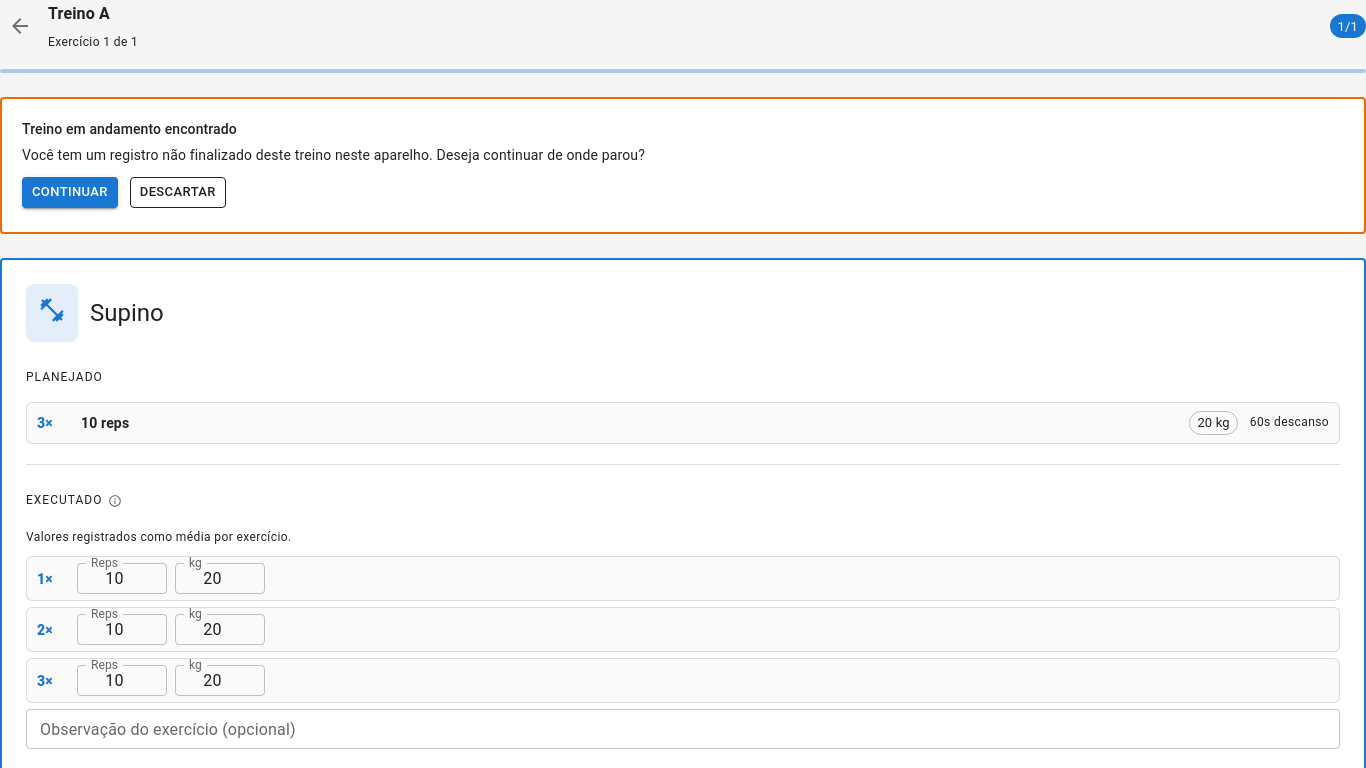
ExecutarFichaPage — hint de agregação por exercício › Descartar remove o draft e fecha o banner (EXOFF-05)
Expected: the heading "Treino em andamento encontrado" is shown, [22,121,237,137]
Click the button "Descartar": [178, 192] box [130,177,226,208]
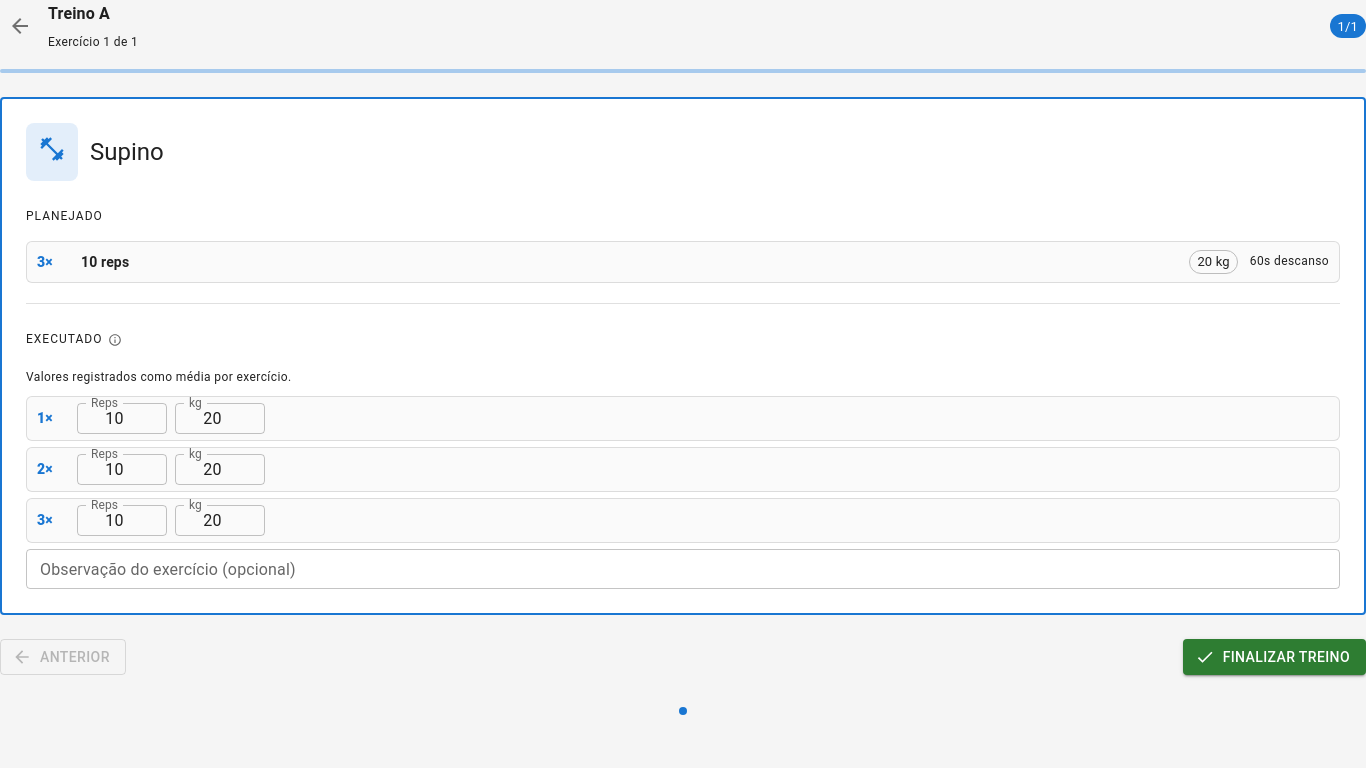
Now the heading "Treino em andamento encontrado" is gone
